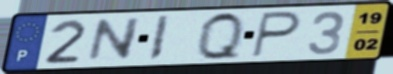2: (43, 18, 88, 65)
3: (306, 10, 346, 56)
I: (146, 14, 173, 63)
N: (84, 16, 143, 64)
P: (249, 10, 304, 59)
Q: (196, 10, 246, 62)
